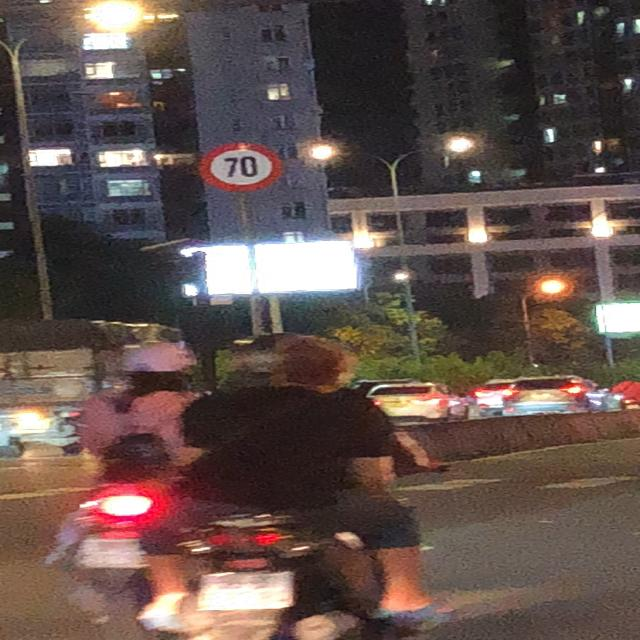Bien bao toc do toi da cho phep: (183, 139, 291, 188)
